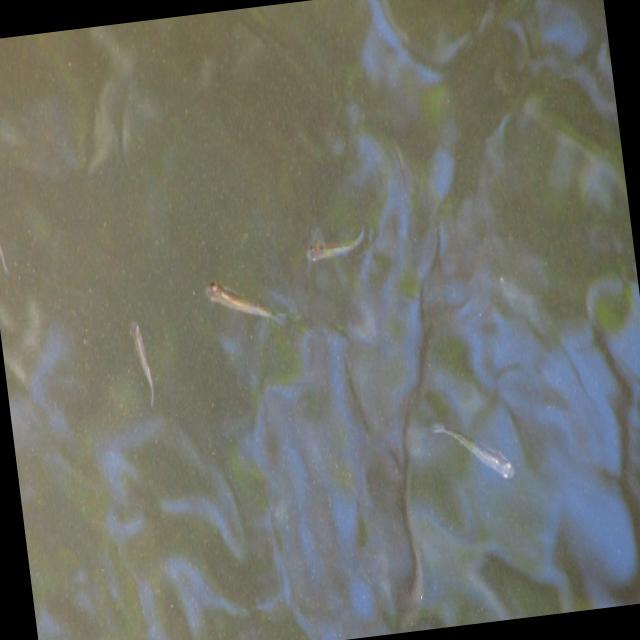Sivrisinek Baligi: (422, 389, 533, 514), (196, 254, 286, 345), (115, 298, 167, 416), (293, 210, 372, 284)
